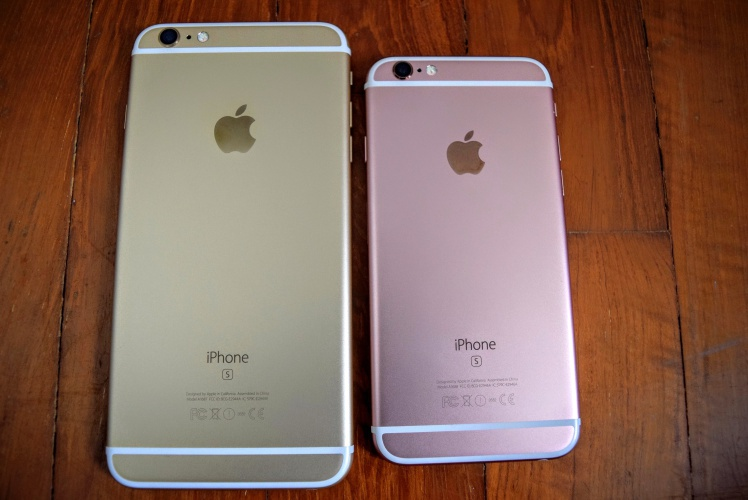apple: (202, 100, 310, 183), (429, 118, 512, 184)
